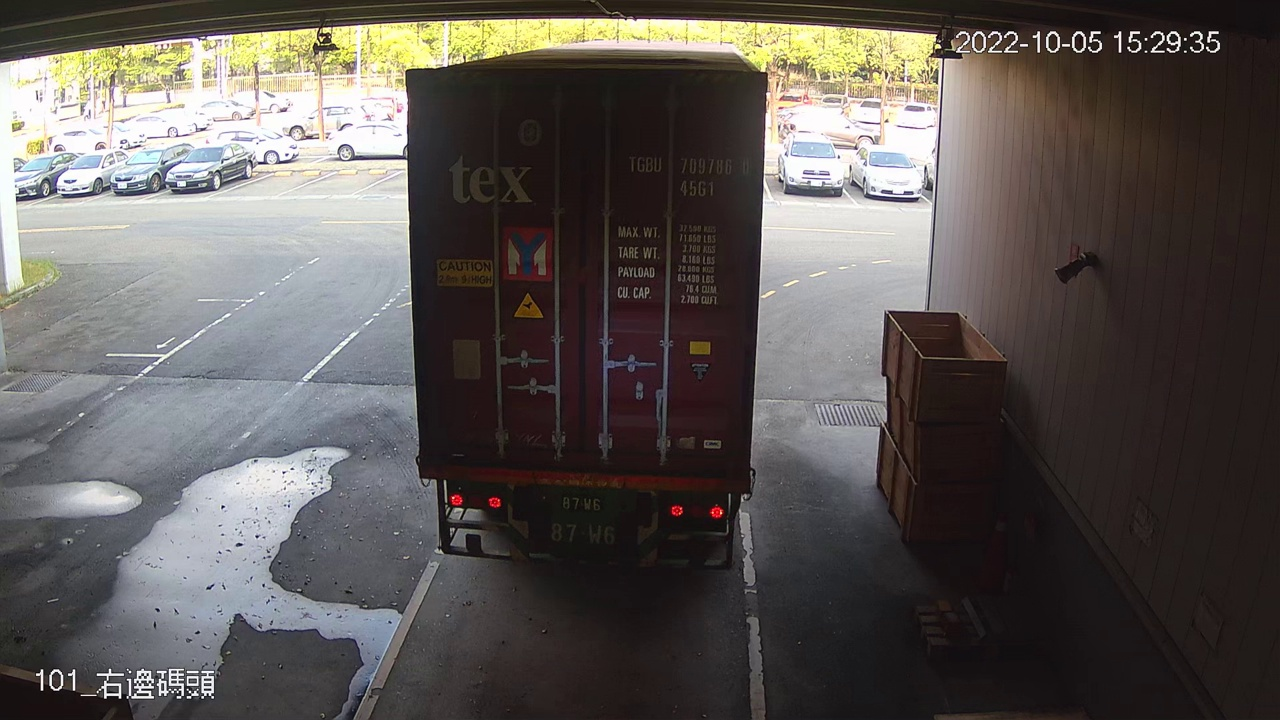container: (620, 148, 756, 202)
